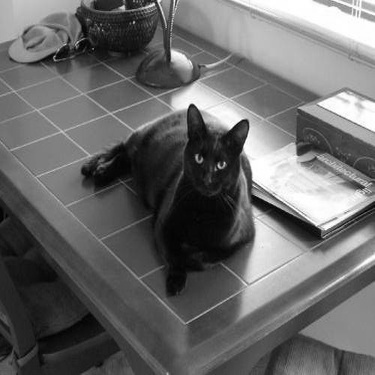cat: (74, 100, 255, 297)
